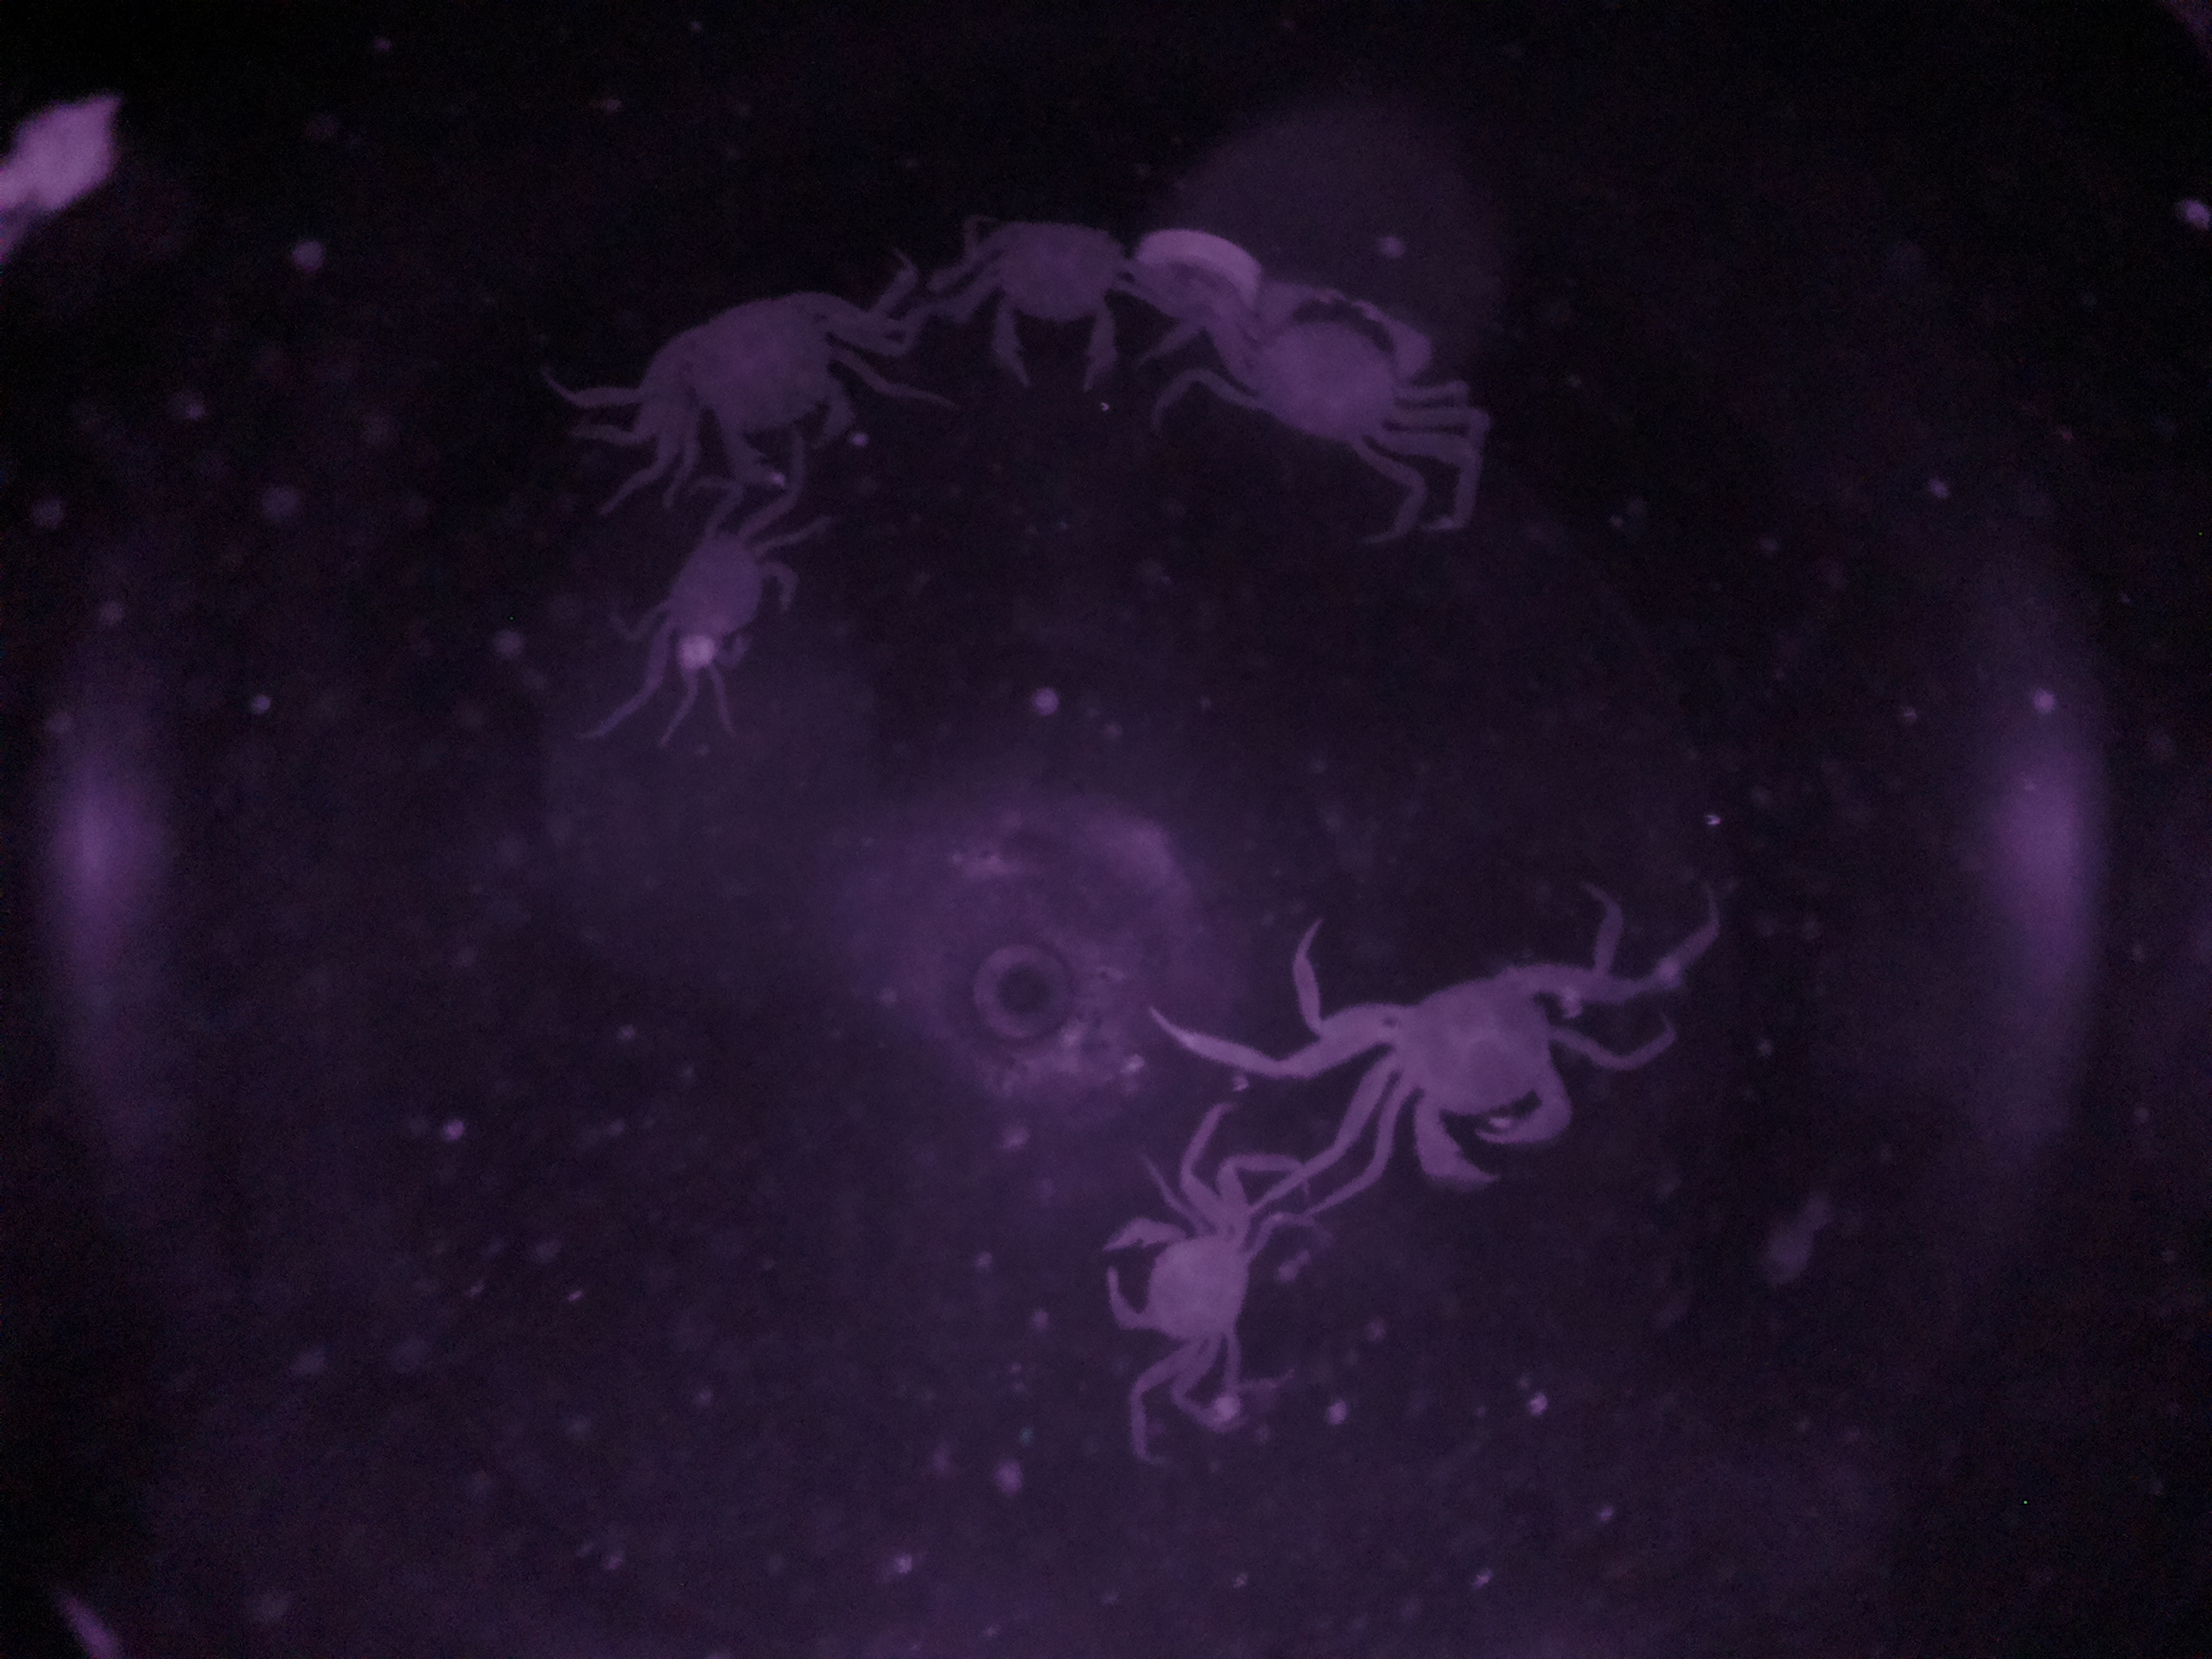Crab: (1334, 924, 1594, 1197), (662, 268, 892, 495), (953, 185, 1157, 427), (1221, 268, 1446, 481), (1082, 1159, 1275, 1382), (627, 497, 806, 687)
